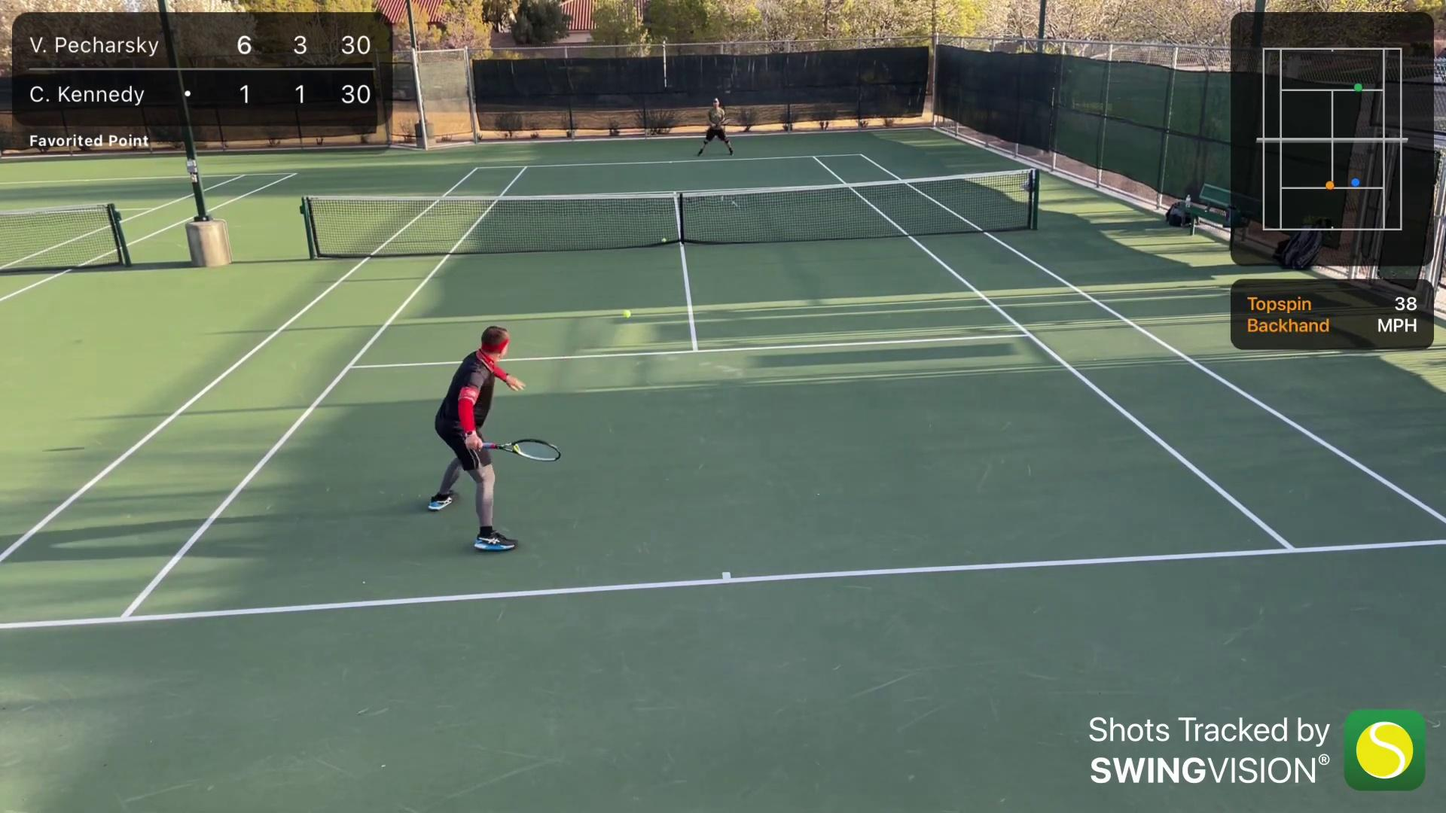ball: (622, 308, 632, 319), (659, 236, 668, 242)
